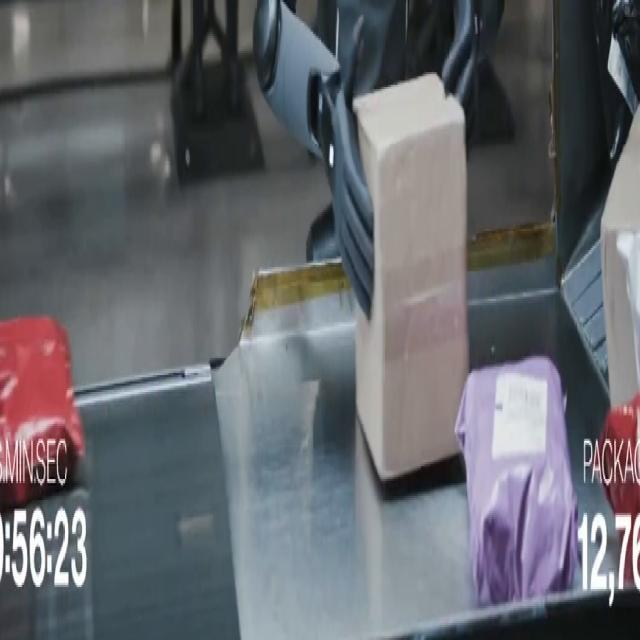package: (355, 75, 468, 481), (456, 357, 579, 606), (0, 318, 85, 510), (601, 115, 639, 406), (598, 395, 639, 584), (617, 231, 639, 381)
